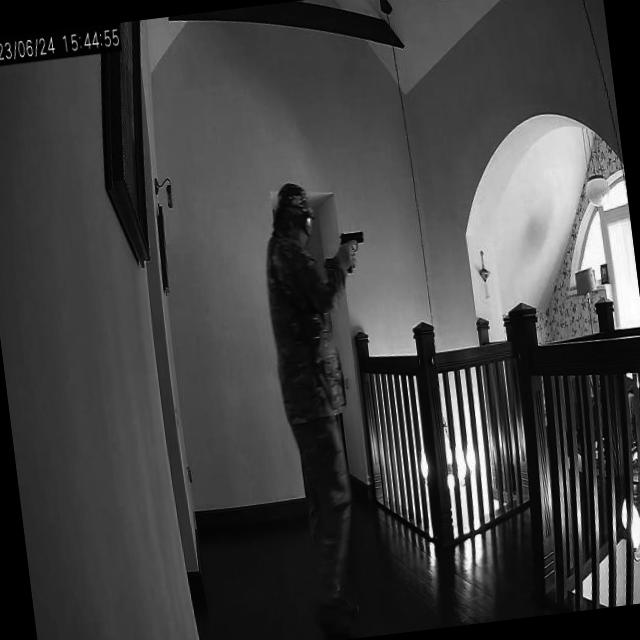gun: (338, 227, 368, 270)
person with a gun: (253, 169, 420, 638)
